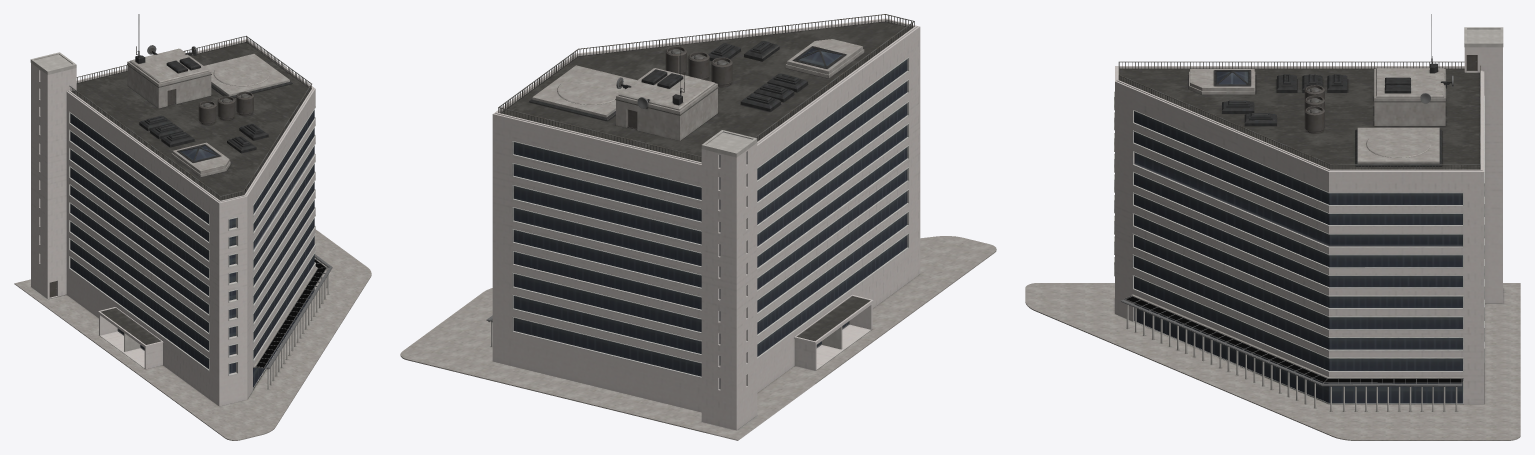
Rendered from bld22_08.glb.
3 views of the same model, side by side, from view 1: azimuth 30°, elevation 25°; view 2: azimuth 150°, elevation 25°; view 3: azimuth 270°, elevation 25° (orthographic). The views are drawn at different scales.
Parts seen in each view (by area): view 1: bld22_08; view 2: bld22_08; view 3: bld22_08.
Part boxes in pixels (x1=…): bld22_08: x1=14, y1=14, x2=371, y2=440; bld22_08: x1=400, y1=14, x2=996, y2=440; bld22_08: x1=1025, y1=14, x2=1520, y2=440.
Bounding box in the file's own units: 105 × 98.79 × 140.
Materials: 1 (1 with a texture image).
